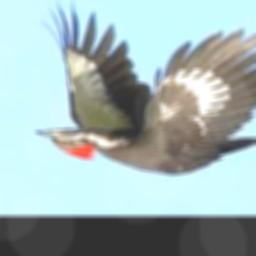Woodpecker: (35, 0, 256, 175)
